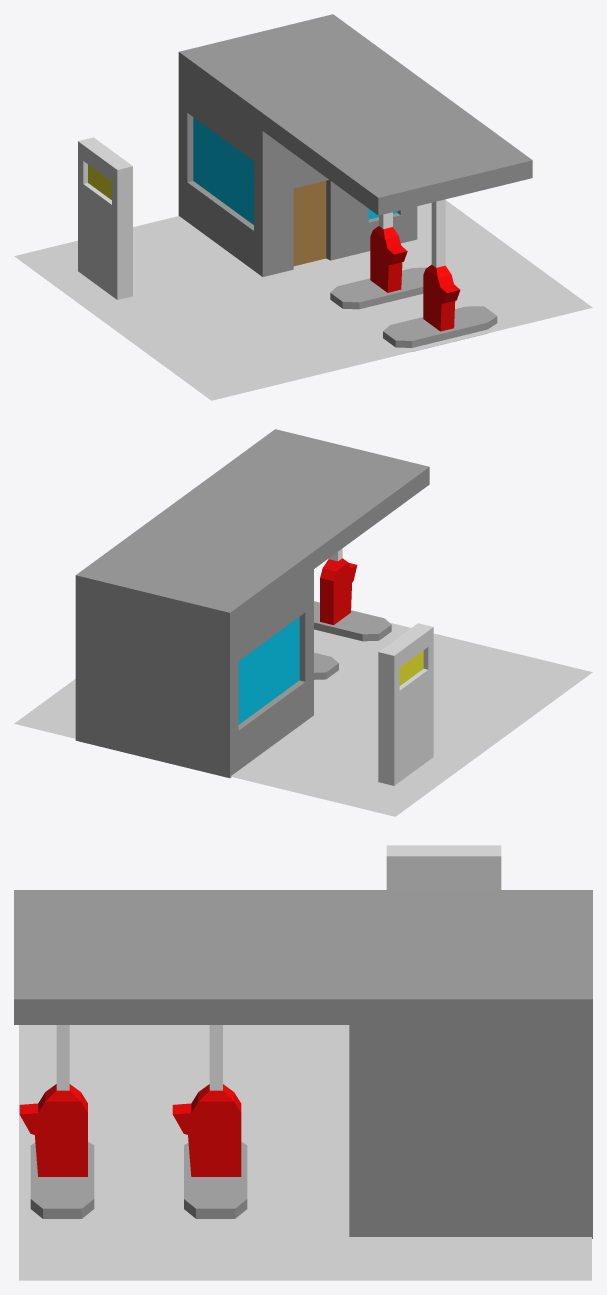
The model's file is GasStation.glb.
The picture shows the model from 3 angles, top to bottom: view 1: azimuth 30°, elevation 25°; view 2: azimuth 150°, elevation 25°; view 3: azimuth 270°, elevation 25°; orthographic projection. The views are drawn at different scales.
Parts seen in each view (by area): view 1: Cube002; view 2: Cube002; view 3: Cube002.
Part boxes in pixels (box(x1,y1,x2,y2)): Cube002: box(14, 14, 592, 400); Cube002: box(14, 429, 592, 816); Cube002: box(14, 845, 592, 1280).
Bounding box in the file's own units: 2011 × 850 × 1823.
